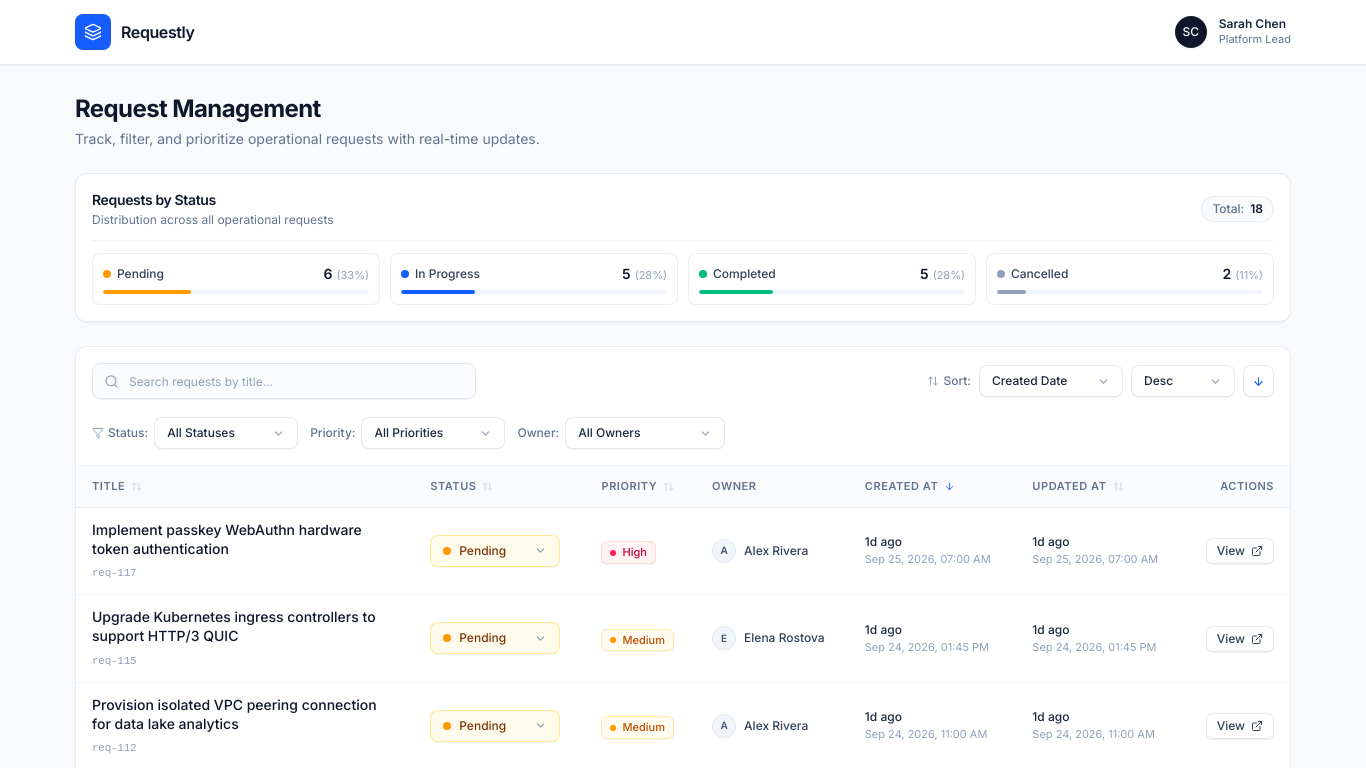
Request Management Dashboard Integration Tests › filters by status and updates URL parameter
Select "Completed" in the dropdown with test id "filter-status" at (120, 433), box [92,425,148,441]
(page scrolled)
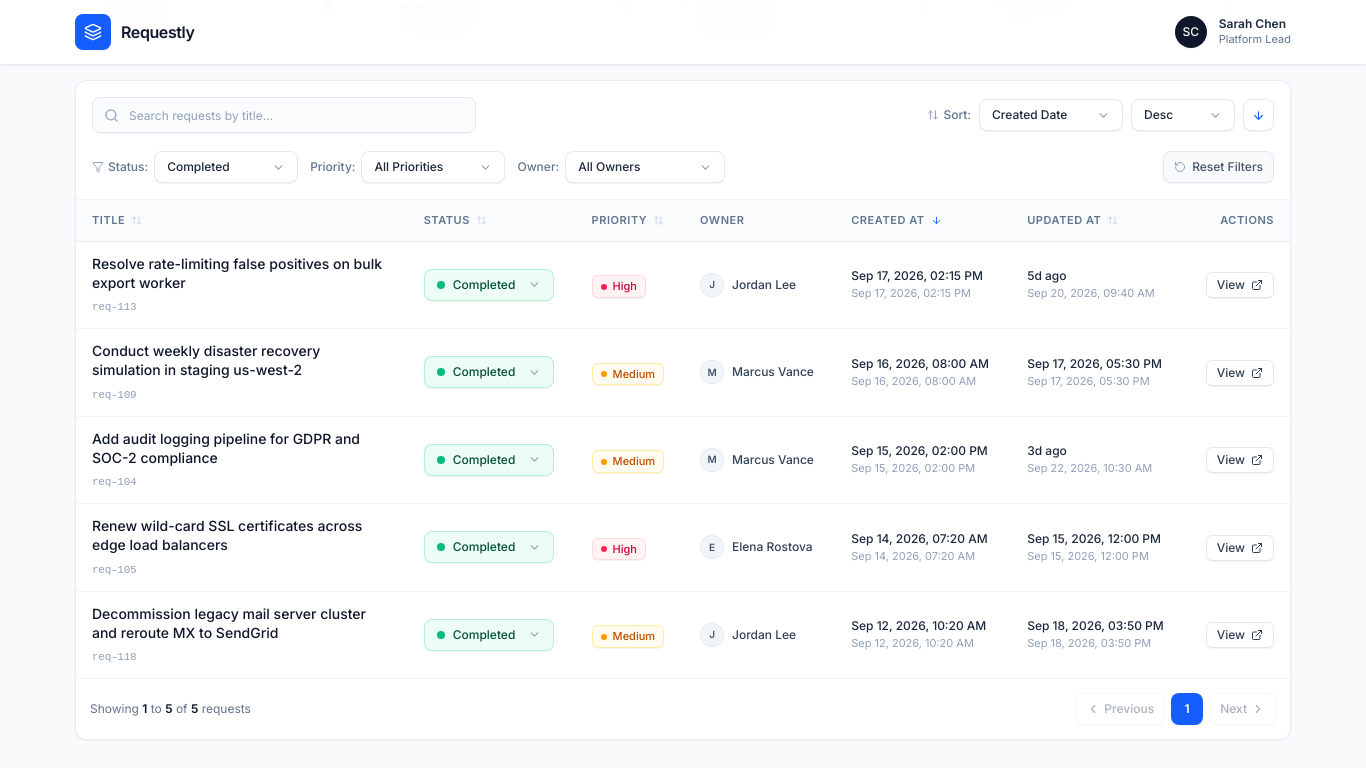
Expected: the link "Renew wild-card SSL certificates across edge load balancers" is shown, [92,516,392,554]
